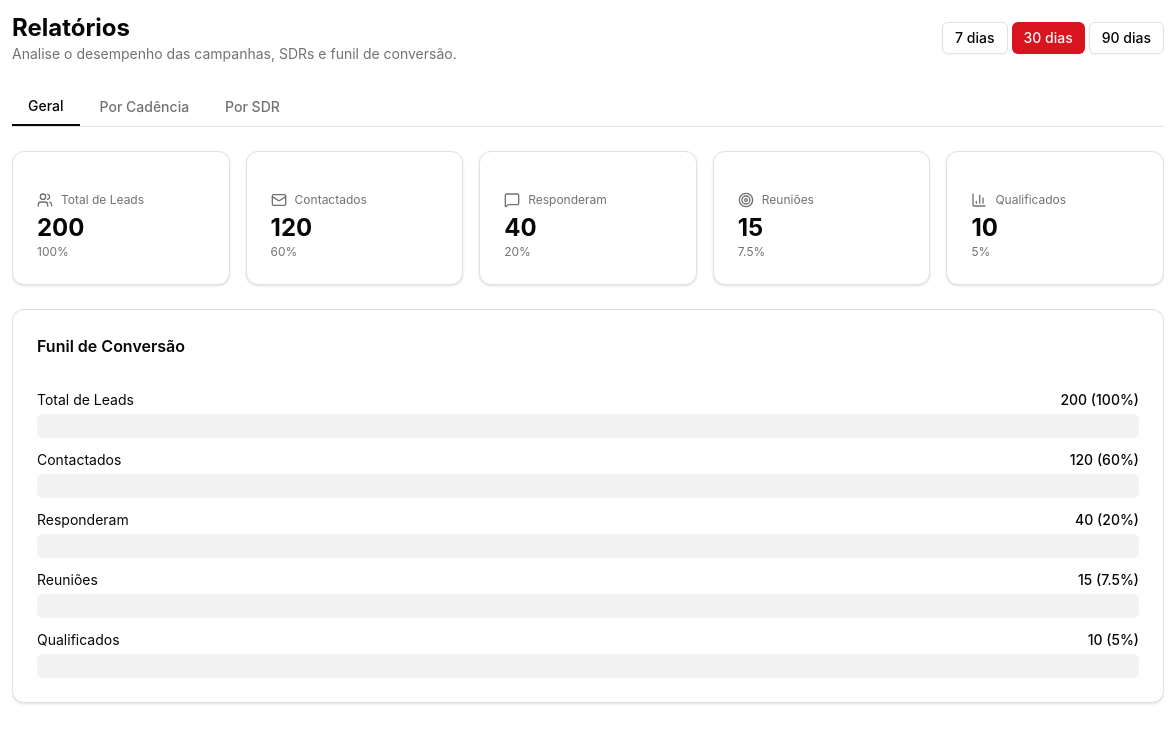
ReportsView › export CSV button › shows export button when on Por SDR tab
Click the button "Por SDR".
click(252, 107)  # box [209, 88, 296, 126]
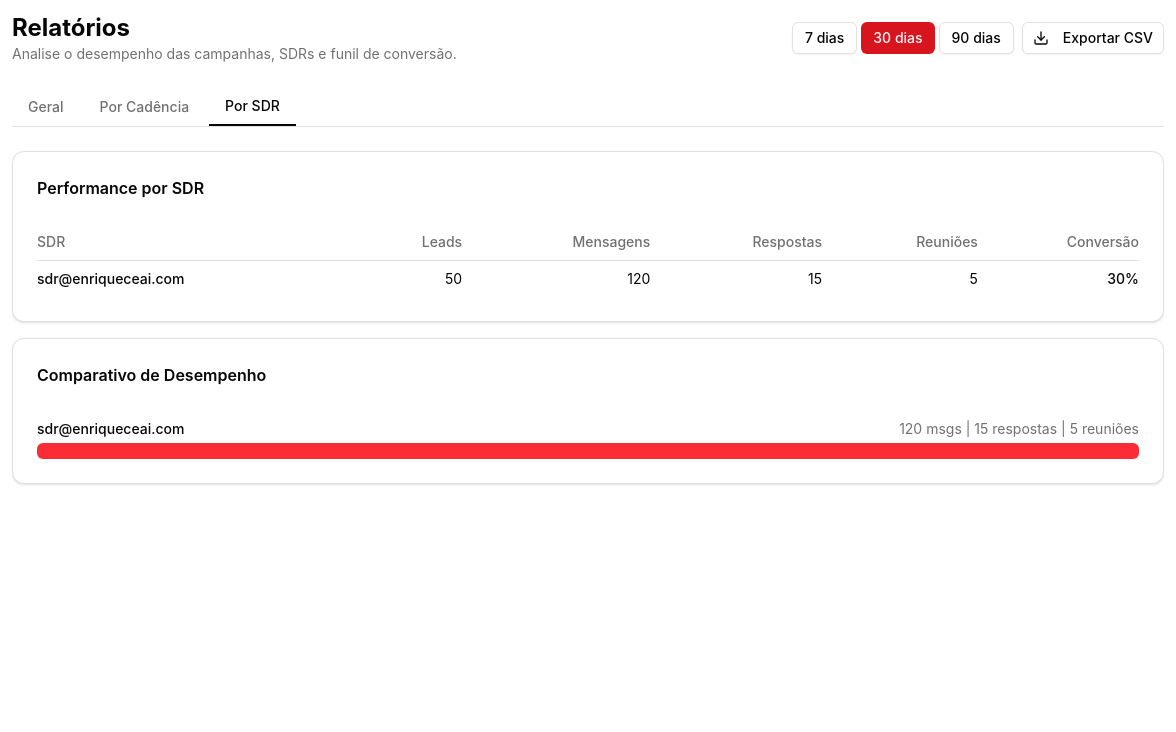
Expected: the button "Exportar CSV" is shown, [1022, 22, 1164, 54]
